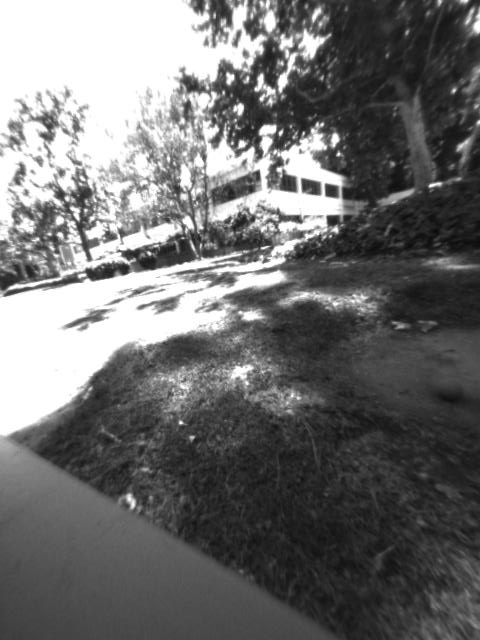dogtoy: (429, 367, 469, 411)
